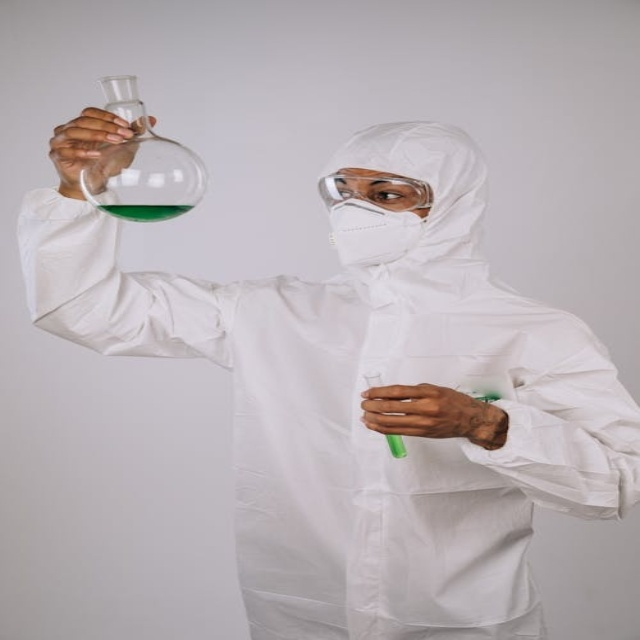Gafas: (320, 174, 435, 213)
Mascara: (327, 200, 427, 269)
Sin_guantes: (359, 383, 502, 447), (49, 105, 147, 189)
